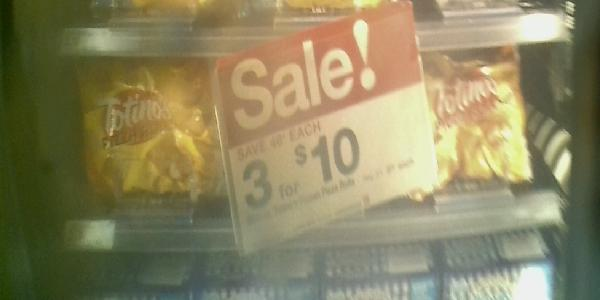icecream: (72, 56, 244, 215), (401, 45, 543, 206)
